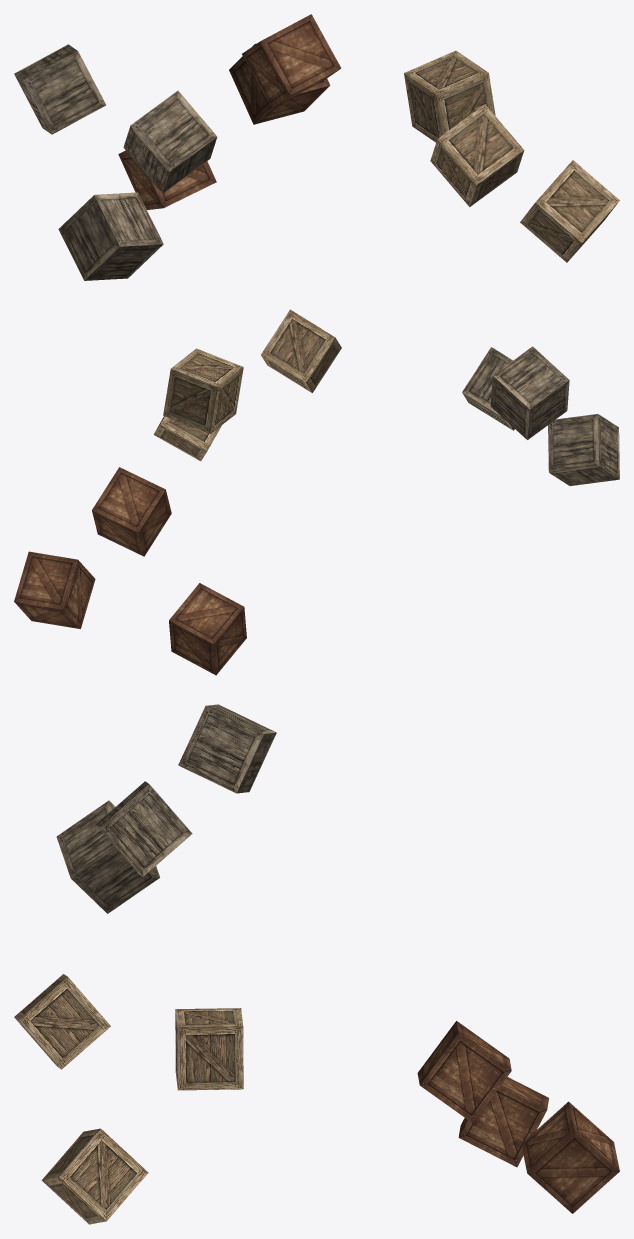
The model's file is boxes001.gltf.
3 renders of one model, top to bottom at view 1: azimuth 30°, elevation 25°; view 2: azimuth 150°, elevation 25°; view 3: azimuth 270°, elevation 25°, orthographic. The views are drawn at different scales.
Visible parts, largest first — view 1: CubeDarkWood.002, CubeDarkWood.000, CubeYellowWood.000, CubeYellowWood.002, CubeYellowWood.001, CubeRedWood.002, CubeDarkWood.001, CubeRedWood.000, CubeRedWood.001; view 2: CubeYellowWood.002, CubeDarkWood.001, CubeRedWood.001, CubeRedWood.000, CubeRedWood.002, CubeDarkWood.002, CubeYellowWood.000, CubeDarkWood.000, CubeYellowWood.001; view 3: CubeRedWood.000, CubeYellowWood.001, CubeYellowWood.002, CubeDarkWood.001, CubeRedWood.002, CubeDarkWood.002, CubeYellowWood.000, CubeDarkWood.000, CubeRedWood.001.
Boxes of the visible parts, <box> form: CubeDarkWood.002: <box>58,192,163,280</box>; CubeDarkWood.000: <box>123,90,217,193</box>; CubeYellowWood.000: <box>430,104,524,206</box>; CubeYellowWood.002: <box>404,50,495,142</box>; CubeYellowWood.001: <box>520,160,619,262</box>; CubeRedWood.002: <box>242,14,341,107</box>; CubeDarkWood.001: <box>14,44,105,134</box>; CubeRedWood.000: <box>229,43,330,124</box>; CubeRedWood.001: <box>118,150,216,209</box>; CubeYellowWood.002: <box>163,348,243,433</box>; CubeDarkWood.001: <box>490,346,569,439</box>; CubeRedWood.001: <box>169,583,246,675</box>; CubeRedWood.000: <box>14,551,95,628</box>; CubeRedWood.002: <box>92,467,171,556</box>; CubeDarkWood.002: <box>548,414,619,485</box>; CubeYellowWood.000: <box>261,309,341,392</box>; CubeDarkWood.000: <box>462,347,514,430</box>; CubeYellowWood.001: <box>153,416,221,461</box>; CubeRedWood.000: <box>521,1101,619,1213</box>; CubeYellowWood.001: <box>41,1128,148,1224</box>; CubeYellowWood.002: <box>175,1008,243,1090</box>; CubeDarkWood.001: <box>178,704,276,793</box>; CubeRedWood.002: <box>417,1021,511,1123</box>; CubeDarkWood.002: <box>56,800,159,913</box>; CubeYellowWood.000: <box>14,974,110,1069</box>; CubeDarkWood.000: <box>96,781,192,876</box>; CubeRedWood.001: <box>458,1077,548,1167</box>.
Size of the model in its own units: 19.62 by 11.36 by 18.4.
Materials: 3 (3 with a texture image).
